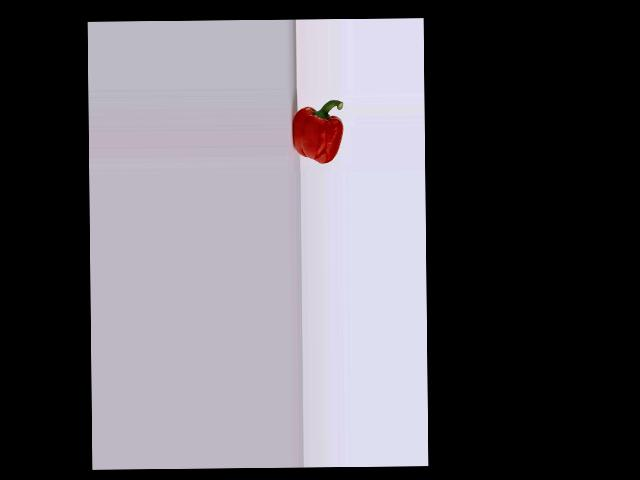bell_pepper: (290, 94, 346, 166)
